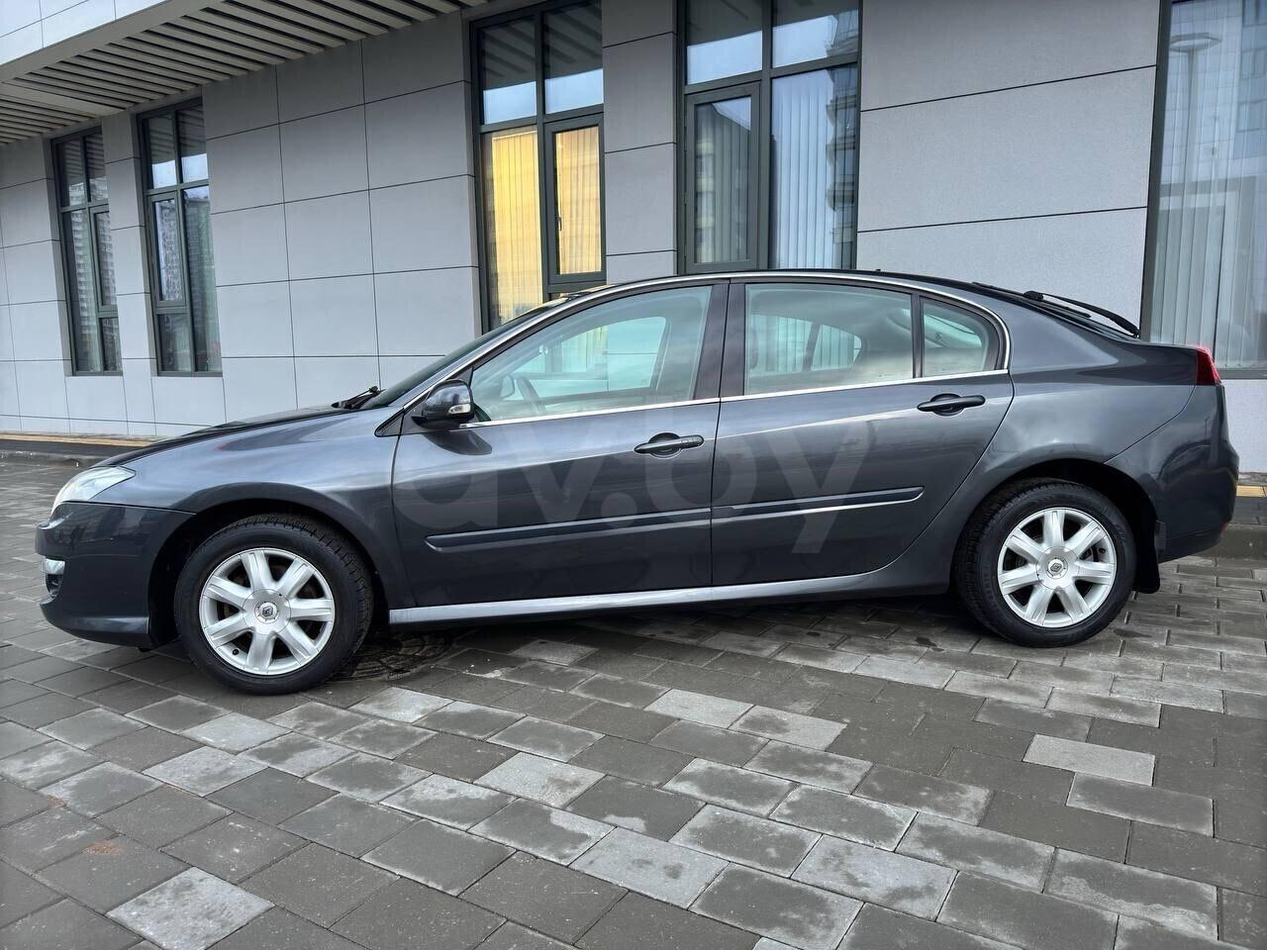Laguna_2010-2015: (30, 257, 1236, 687)
